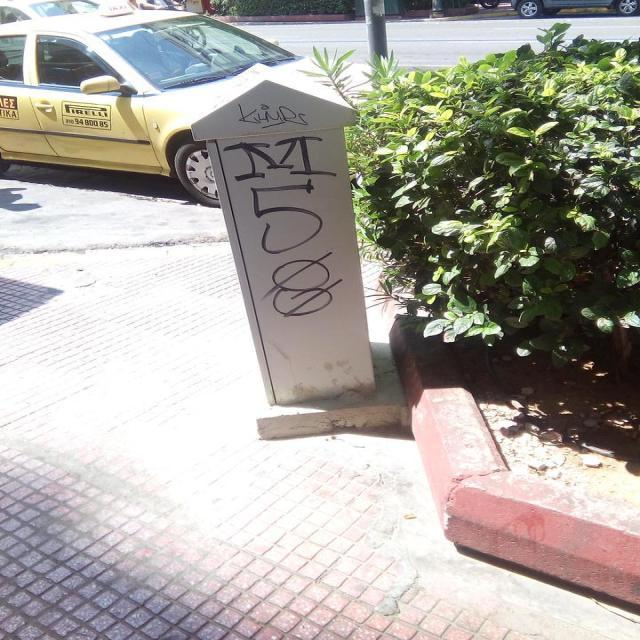nonspitting: (222, 136, 343, 320), (237, 104, 310, 130)
